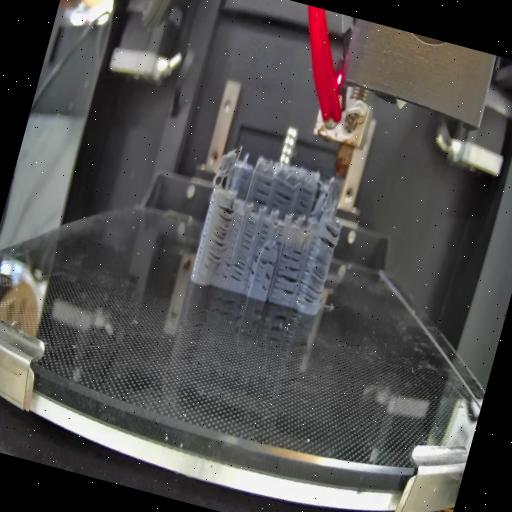cracks: (202, 199, 238, 267), (296, 248, 332, 306), (270, 262, 300, 302), (218, 250, 248, 285), (250, 173, 274, 207), (268, 182, 294, 212), (314, 220, 340, 248), (237, 218, 258, 252), (244, 250, 260, 290), (294, 187, 312, 216), (280, 243, 304, 264), (258, 270, 272, 294), (273, 225, 285, 248), (256, 222, 270, 241), (257, 255, 276, 268), (262, 243, 274, 252)
